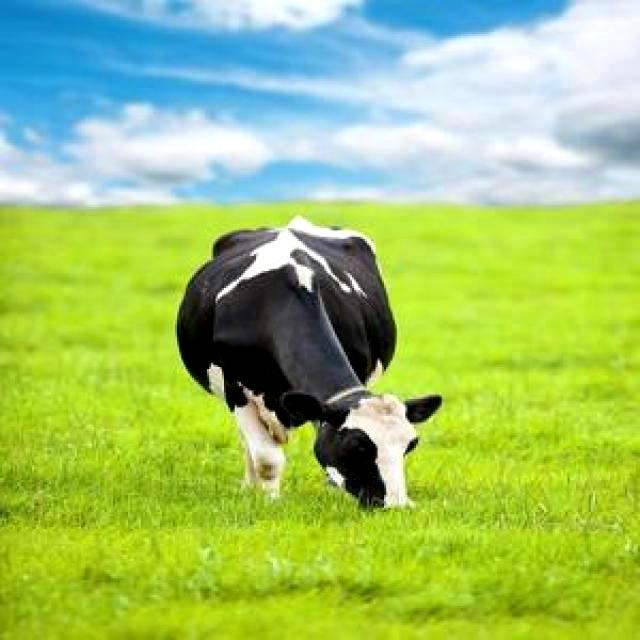COW: (178, 218, 441, 507)
